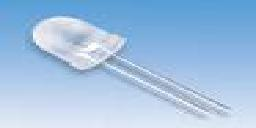LED: (30, 13, 231, 128), (29, 15, 128, 77)
